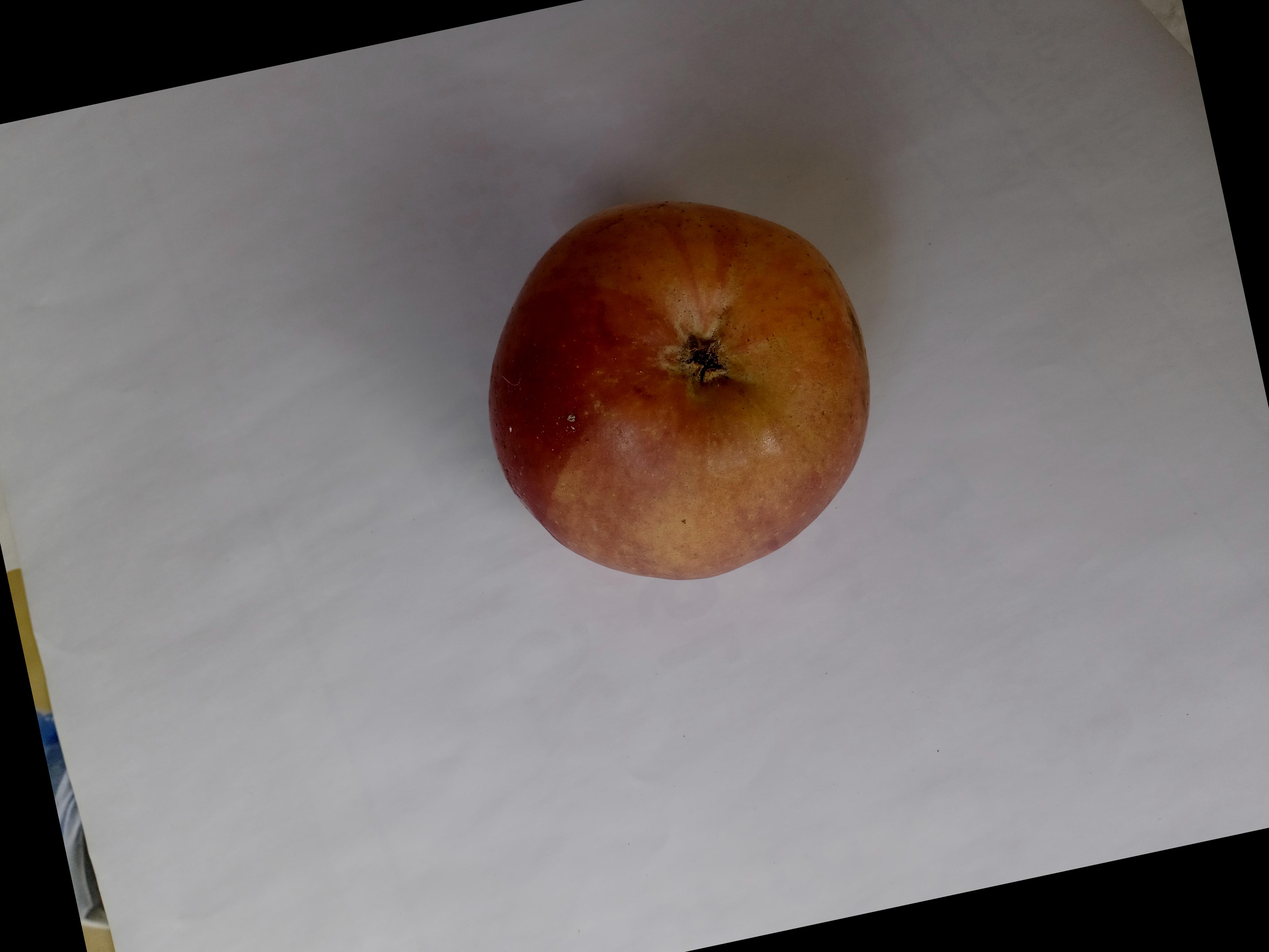Apple Ripe: (315, 310, 823, 824)
